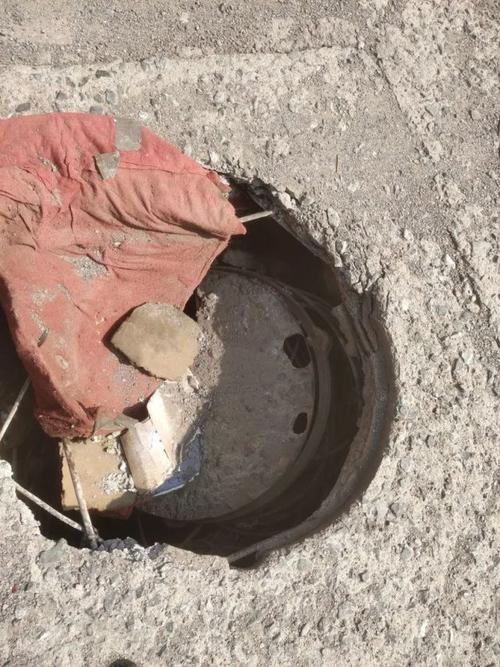broke: (12, 128, 453, 625)
